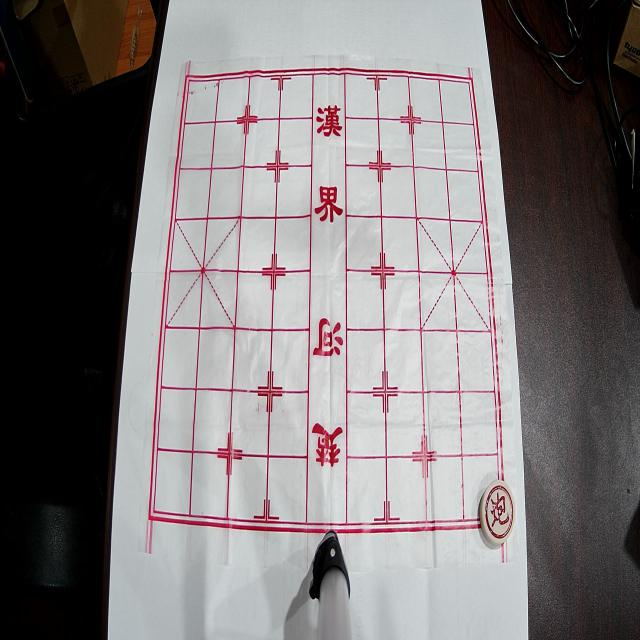red-cannon: (480, 480, 516, 545)
